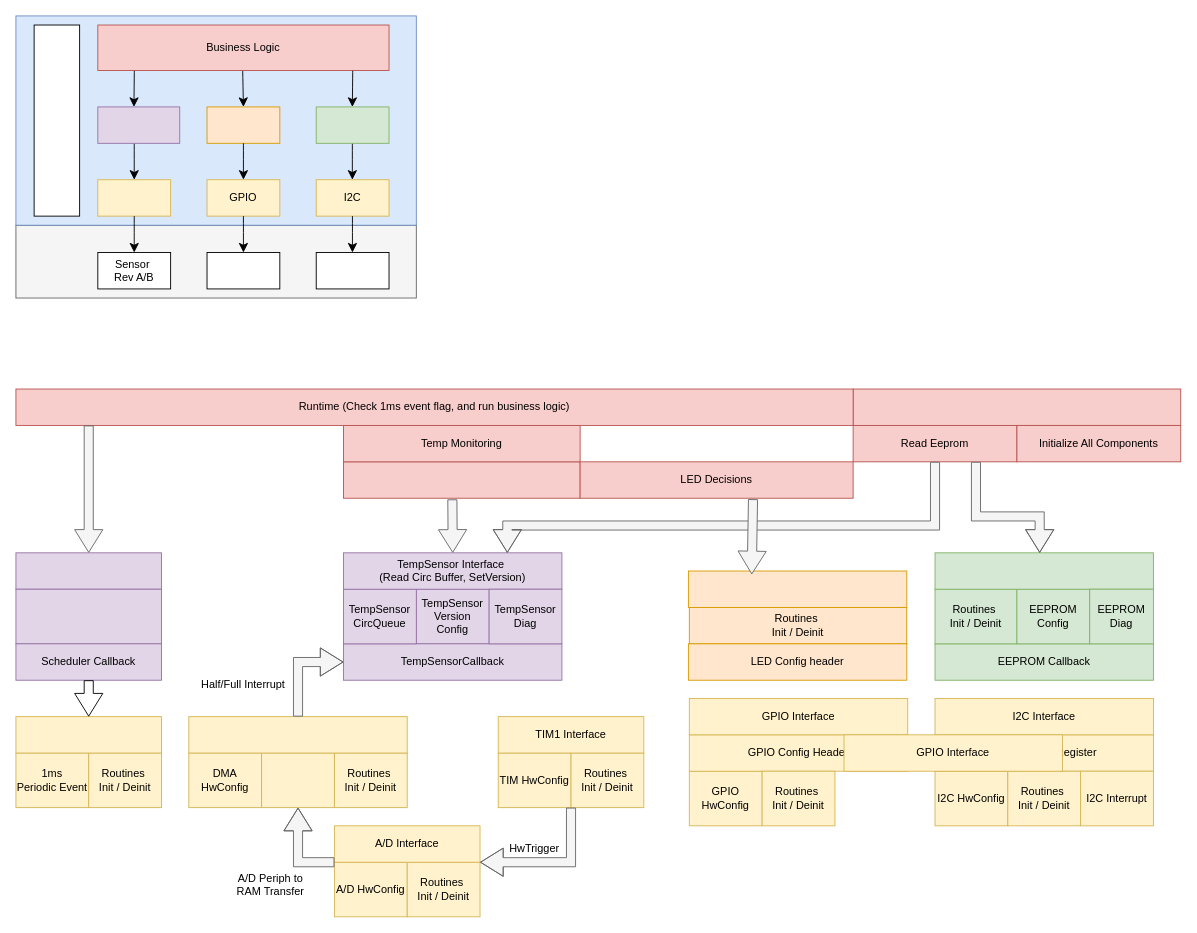
This 1197x933 diagram has some shape labels left out. The shapes that lost their labels are listed below. From the top down, each one's centre as x and y in pixels, then its label:
point (56, 120): Config Header
point (138, 124): Temp Sensor Calib, Curves
point (243, 124): LED Config etc.
point (352, 124): EEPROM Logic
point (134, 197): A/D
point (243, 270): LED Physical
point (352, 270): EEPROM Physical
point (1016, 406): Startup
point (461, 479): Filtering and Hysterisis
point (88, 570): Scheduler Interface (getEventFlag)
point (797, 588): LED Interface (Set/Reset, Init Deinit)
point (1043, 570): EEPROM Interface (SingleRead, Init Deinit)
point (88, 616): Scheduler Data
point (88, 734): TIM0 Interface (RegisterCallback)
point (297, 734): DMA Interface(Register Callback)
point (297, 780): DMA Half/Full Interrupt
